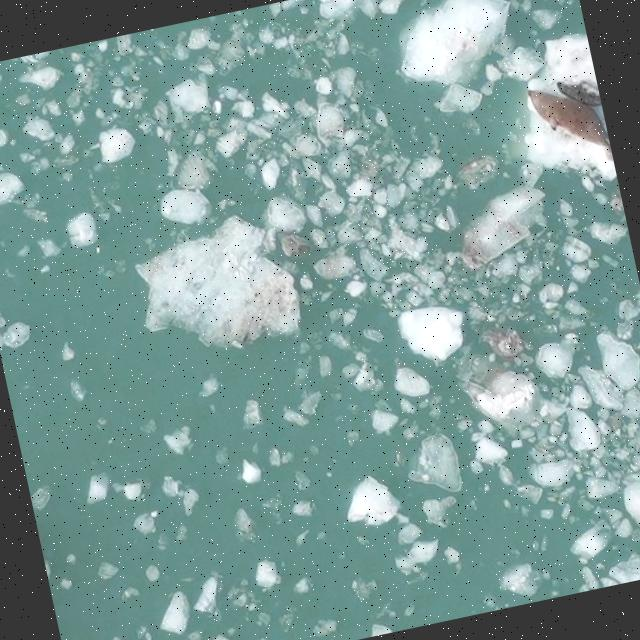seal: (517, 69, 628, 172), (555, 68, 609, 112)
